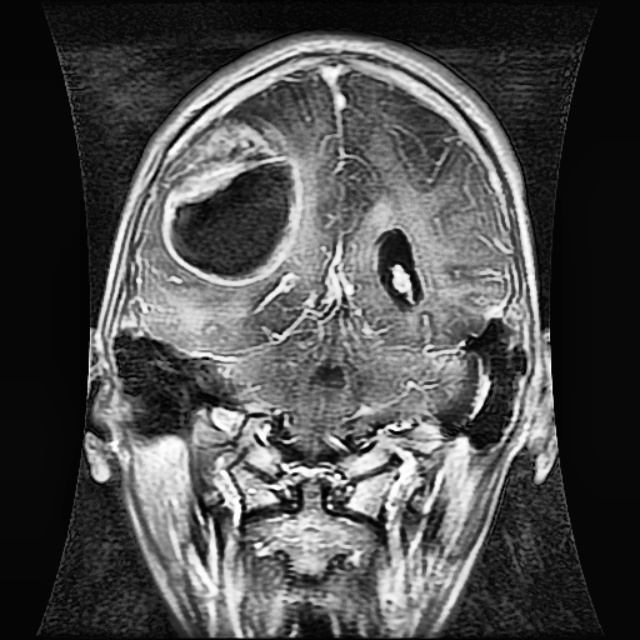Meningioma: (160, 113, 302, 285)
